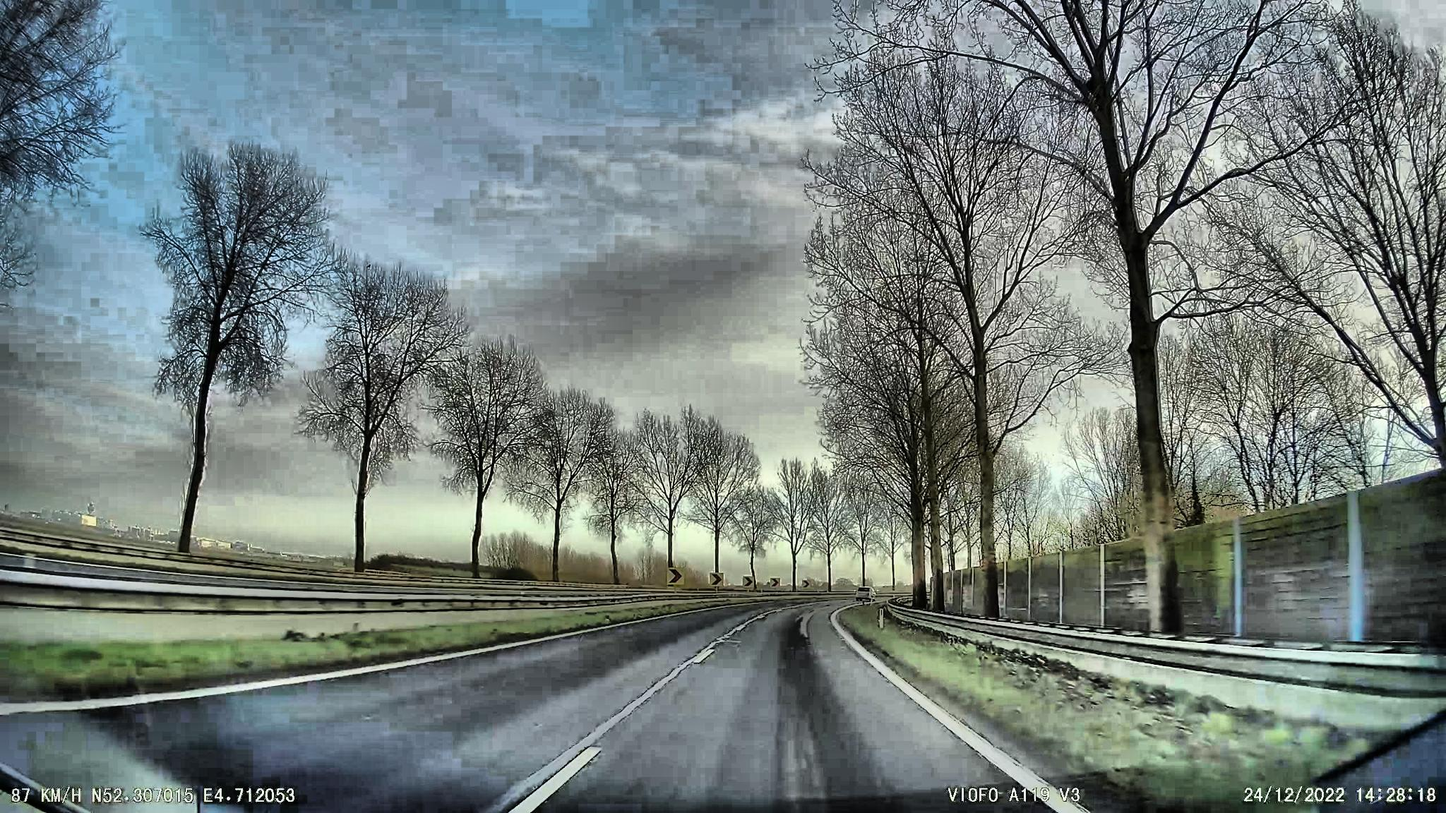Roads: (0, 598, 1070, 813)
